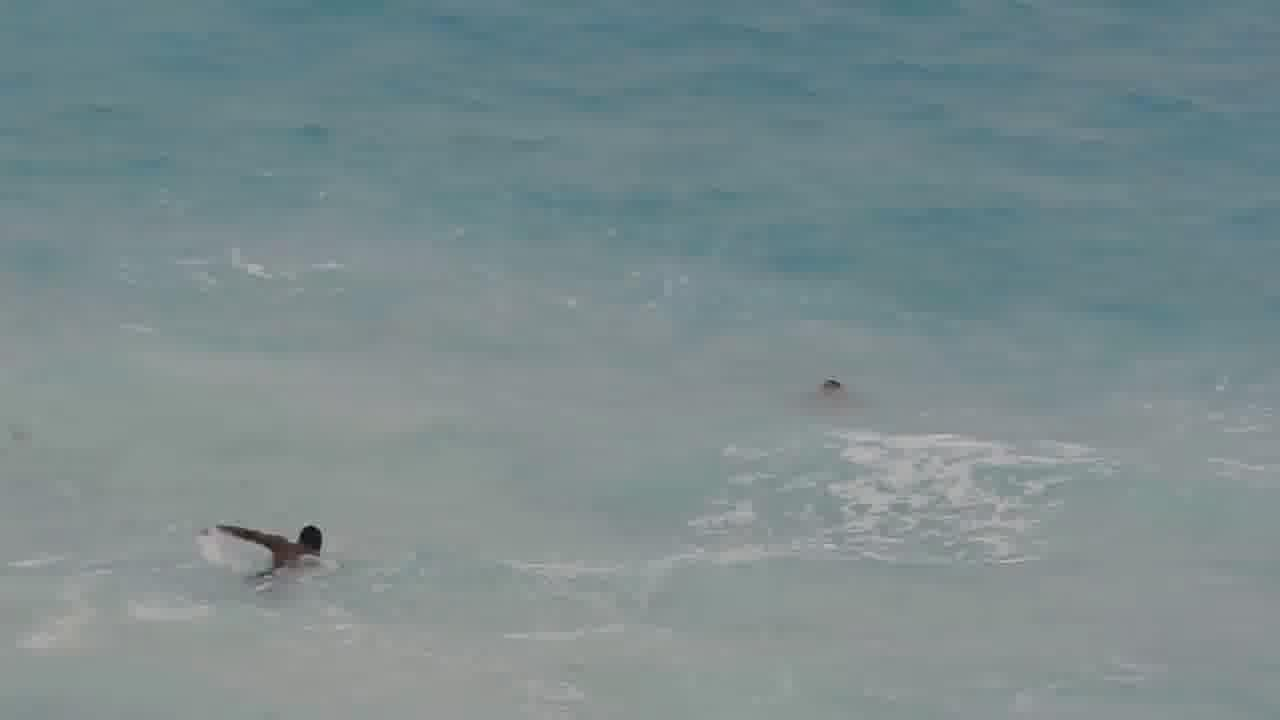human: (246, 501, 339, 581), (803, 361, 856, 406)
